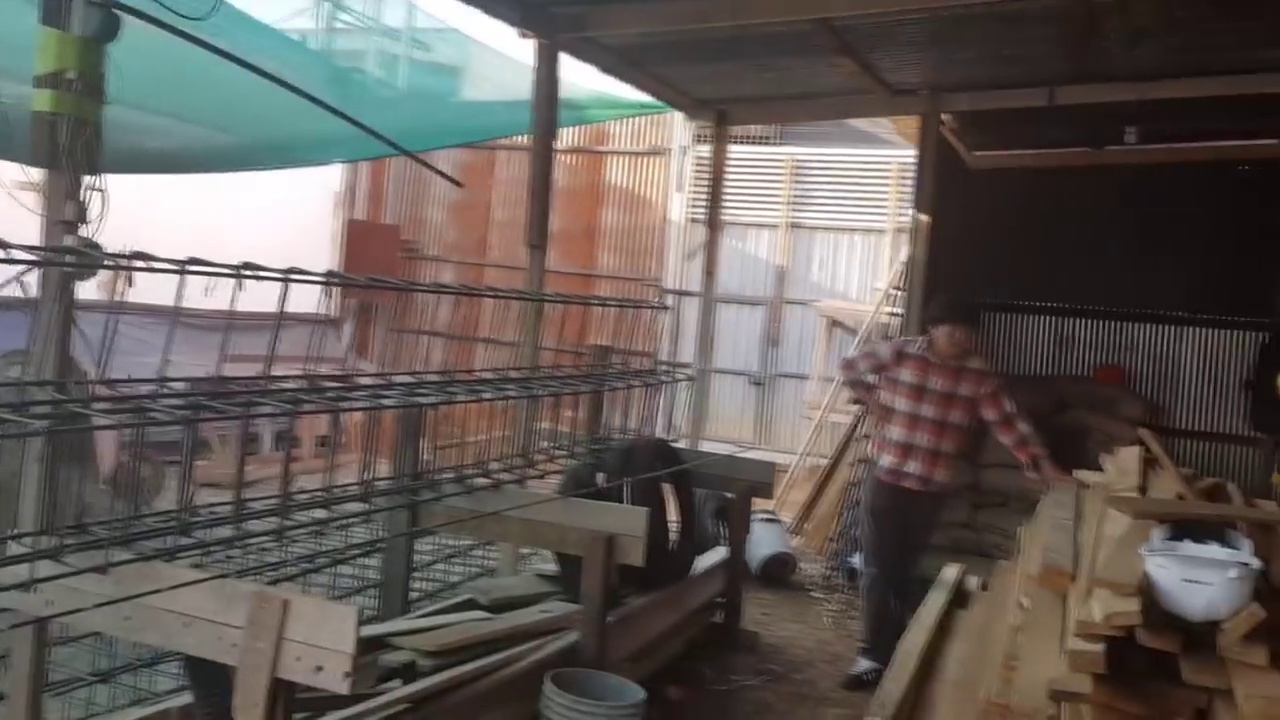helmet: (1137, 526, 1267, 626)
helmet-off: (919, 291, 981, 366)
person: (836, 285, 1076, 693)
